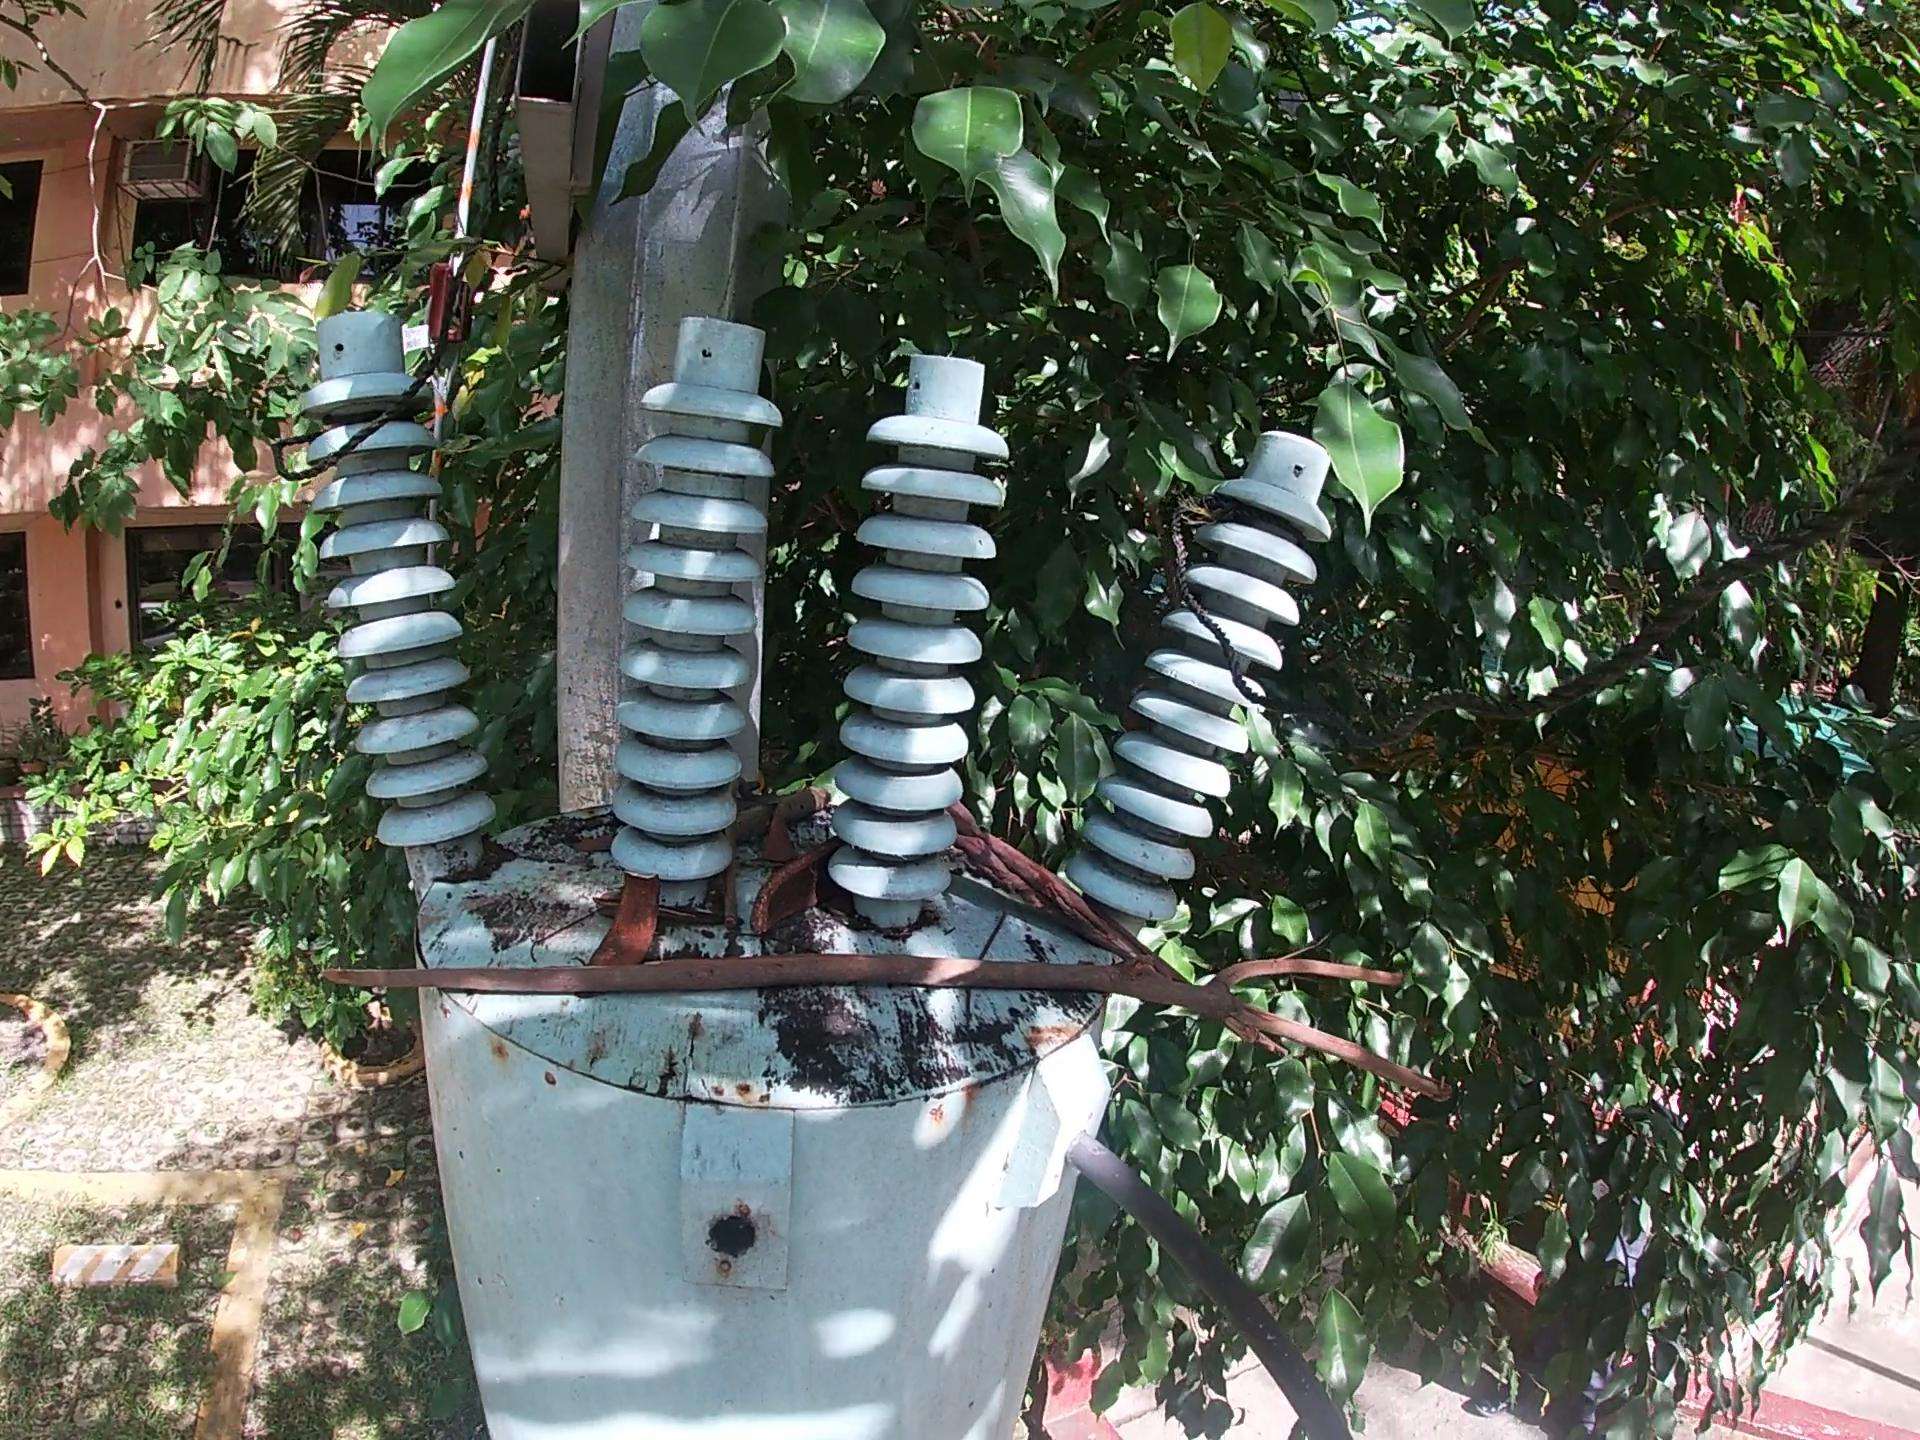leaf: (559, 833, 621, 862), (766, 805, 795, 864)
mahogany fruit: (742, 835, 847, 944), (582, 862, 676, 965)
tree branch: (293, 959, 1476, 1134), (957, 799, 1150, 954), (736, 787, 841, 843), (526, 898, 608, 957), (962, 905, 1020, 954), (958, 986, 993, 1069), (659, 905, 718, 929), (726, 855, 742, 933), (590, 895, 618, 915), (733, 777, 763, 793)
